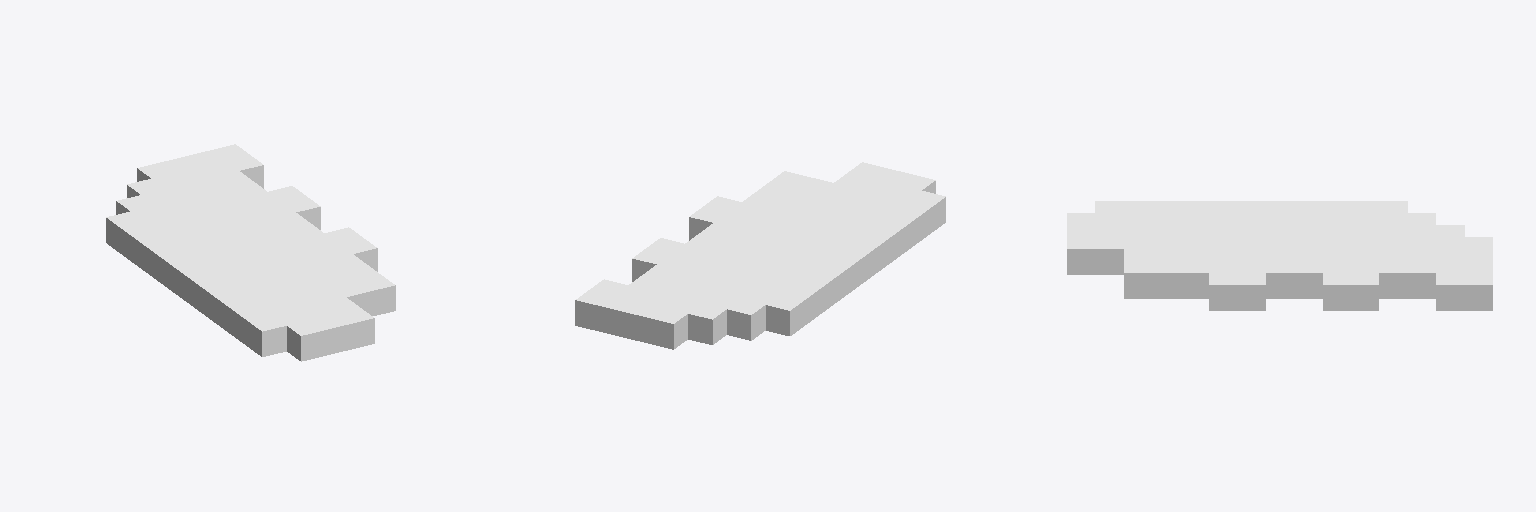
The model's file is mogerco-3.obj.
3 renders of one model, left to right at view 1: azimuth 30°, elevation 25°; view 2: azimuth 150°, elevation 25°; view 3: azimuth 270°, elevation 25°, orthographic.
Parts seen in each view (by area): view 1: object 1; view 2: object 1; view 3: object 1.
Boxes of the visible parts, <box> form: object 1: <box>106,144,395,361</box>; object 1: <box>575,162,945,349</box>; object 1: <box>1067,201,1492,310</box>.
Bounding box in the file's own units: 0.7 × 0.1 × 1.5.